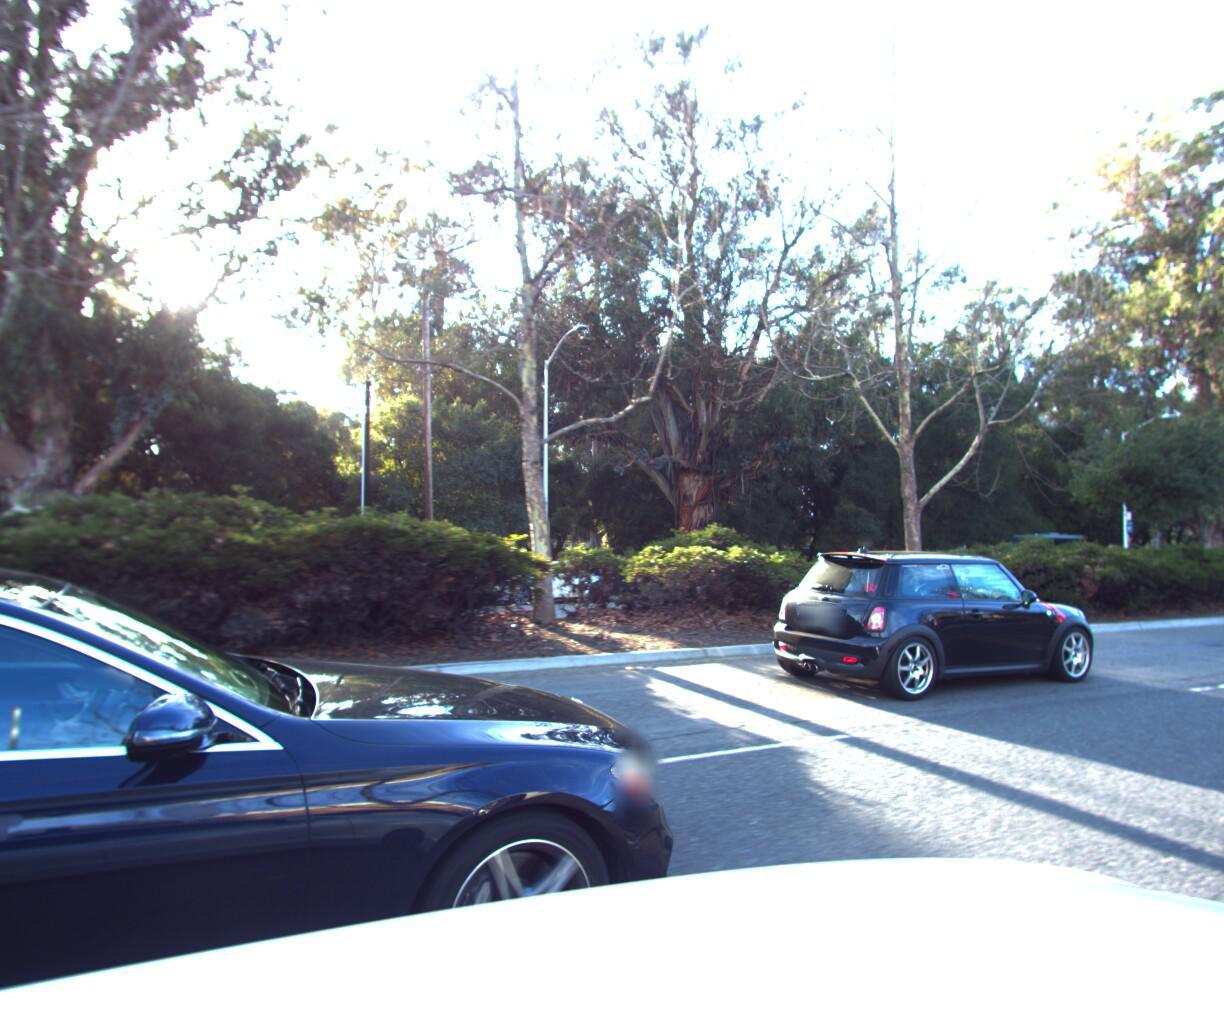car: (0, 560, 716, 1024), (754, 539, 1093, 707)
other_vehicle: (0, 491, 283, 631)
